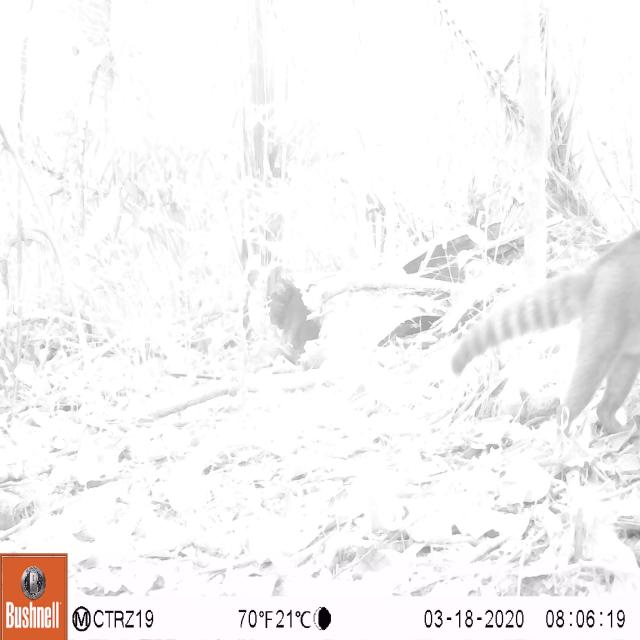South American Coati: (438, 215, 640, 447)
